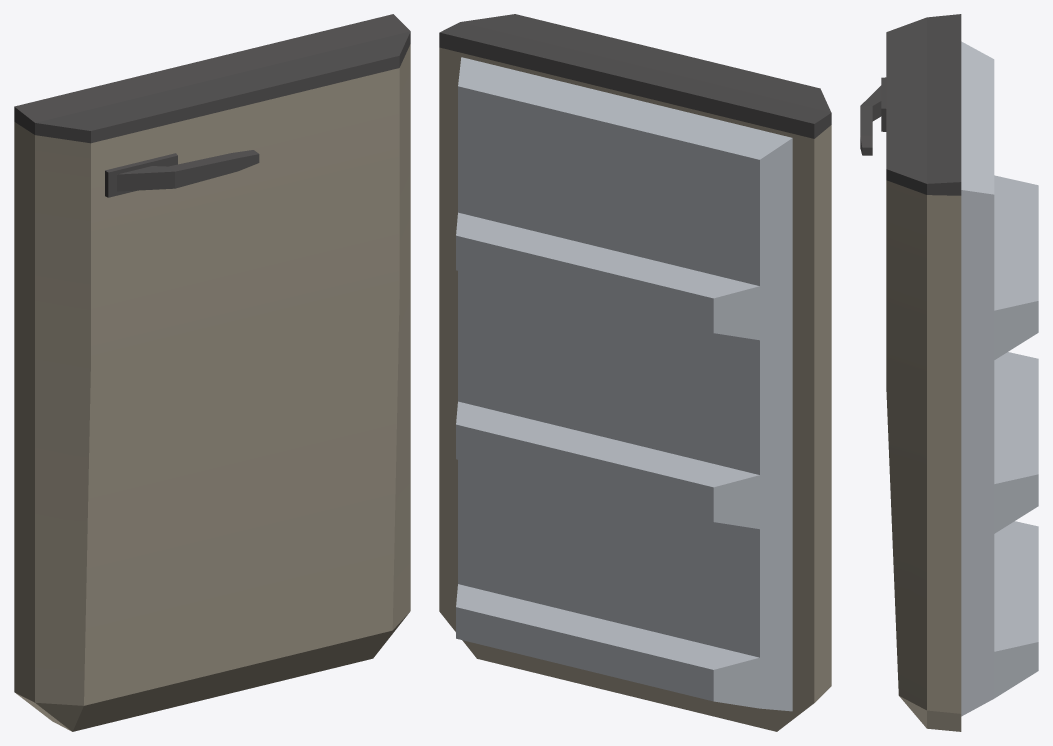
File: SM_Prop_Fridge_Door_02.fbx
The picture shows the model from 3 angles, left to right: view 1: azimuth 30°, elevation 25°; view 2: azimuth 150°, elevation 25°; view 3: azimuth 270°, elevation 25°; orthographic projection. The views are drawn at different scales.
Parts seen in each view (by area): view 1: SM_Prop_Fridge_Door_02; view 2: SM_Prop_Fridge_Door_02; view 3: SM_Prop_Fridge_Door_02.
Boxes of the visible parts, x1,y1,x2,y2 form: SM_Prop_Fridge_Door_02: [14, 14, 410, 731]; SM_Prop_Fridge_Door_02: [439, 14, 831, 731]; SM_Prop_Fridge_Door_02: [860, 14, 1038, 731].
Bounding box in the file's own units: 93.4 × 147 × 41.94.
